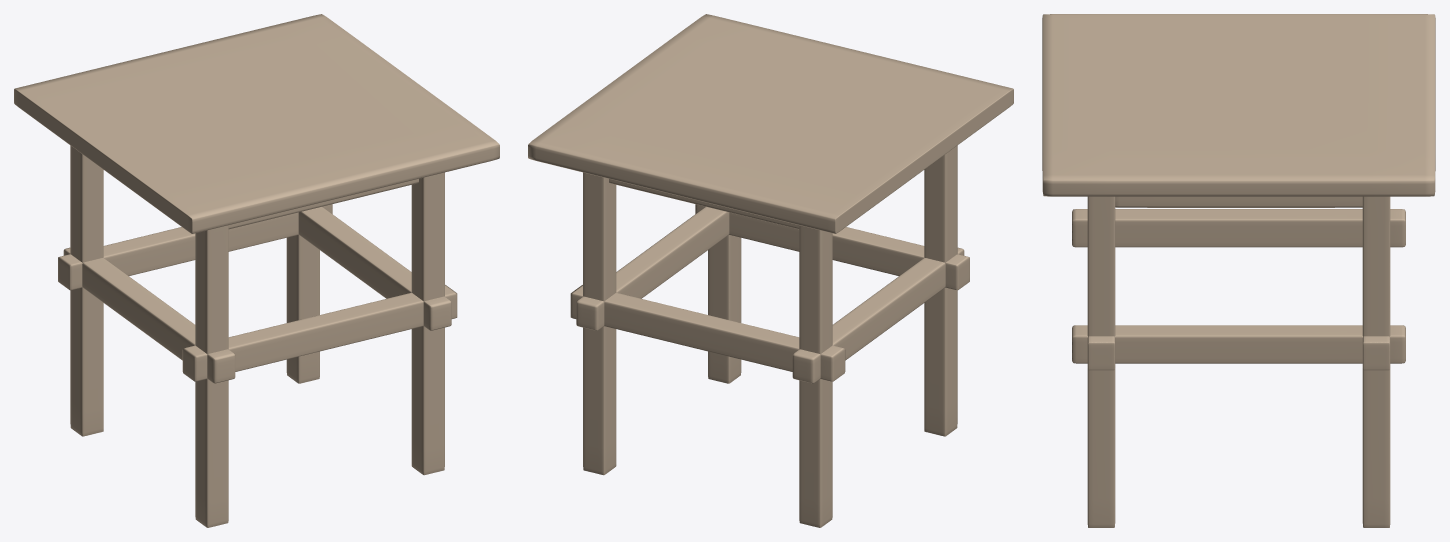
File: Table.fbx
The picture shows the model from 3 angles, left to right: view 1: azimuth 30°, elevation 25°; view 2: azimuth 150°, elevation 25°; view 3: azimuth 270°, elevation 25°; orthographic projection. The views are drawn at different scales.
Visible parts, largest first — view 1: Plane, Cube.001, Cube; view 2: Plane, Cube.001, Cube; view 3: Plane, Cube.001, Cube.002.
Boxes of the visible parts, left/top/right/bottom form: Plane: left=14, top=14, right=499, bottom=233; Cube.001: left=58, top=145, right=457, bottom=527; Cube: left=228, top=179, right=418, bottom=229; Plane: left=528, top=14, right=1013, bottom=233; Cube.001: left=570, top=145, right=969, bottom=527; Cube: left=609, top=179, right=799, bottom=229; Plane: left=1042, top=14, right=1435, bottom=196; Cube.001: left=1072, top=196, right=1405, bottom=527; Cube.002: left=1115, top=196, right=1362, bottom=207.
Size of the model in its own units: 200 by 206 by 200.
